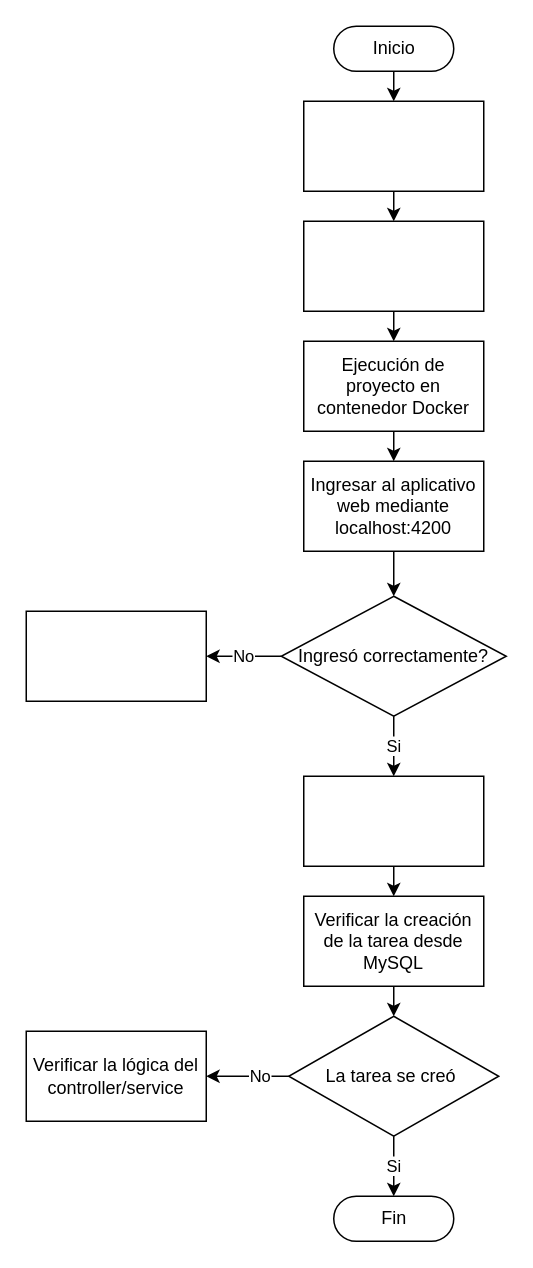
The diagram is 533 pixels wide and 1268 high, and some of its shapes have lost their labels. Here are the shapes that lost their labels. From the top down, the box of each, then its label:
(302, 100, 484, 191): Creación Dockerfile
(302, 220, 484, 311): Creación imagen Docker para webapp
(25, 610, 206, 701): Verificar los pasos anteriores
(302, 775, 484, 866): Crear una tarea mediante la interfáz gráfica
